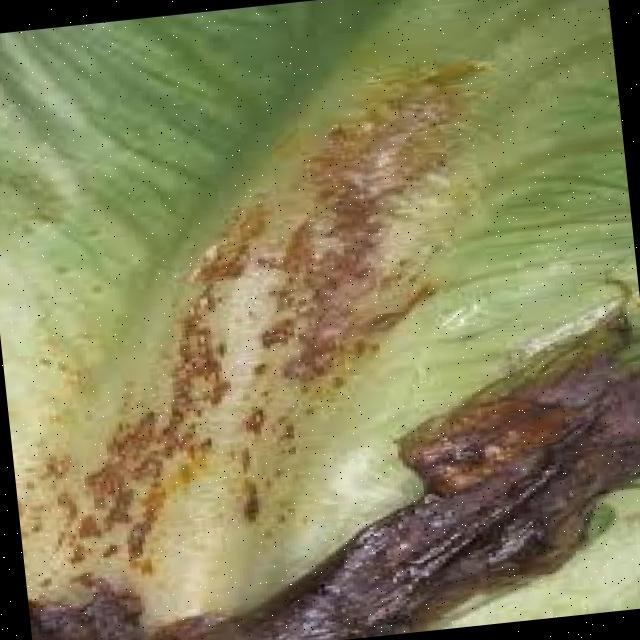Septoria_Blight_on_lettuce: (7, 29, 622, 640)
